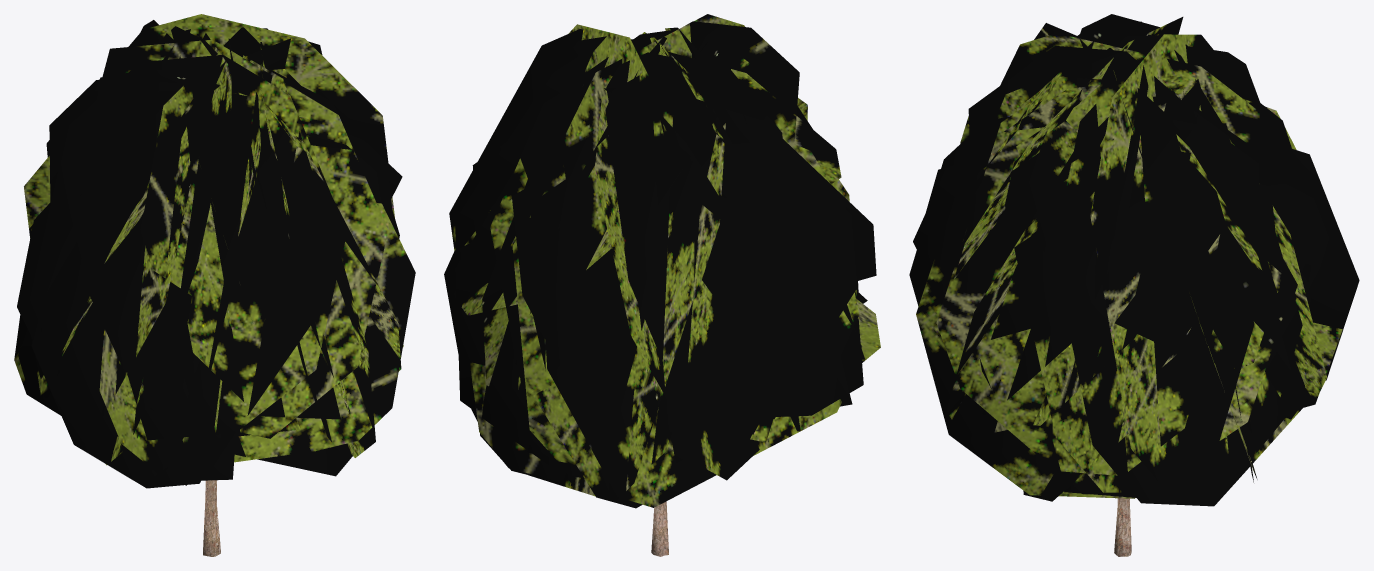
The model's file is tree2.fbx.
The picture shows the model from 3 angles, left to right: view 1: azimuth 30°, elevation 25°; view 2: azimuth 150°, elevation 25°; view 3: azimuth 270°, elevation 25°; orthographic projection.
Visible parts, largest first — view 1: Tree_LOD0; view 2: Tree_LOD0; view 3: Tree_LOD0.
Boxes of the visible parts, x1,y1,x2,y2 form: Tree_LOD0: (14, 14, 415, 556); Tree_LOD0: (444, 14, 880, 556); Tree_LOD0: (909, 14, 1359, 556).
Size of what is drawn, in the model's own units: 1008 by 1322 by 1030.
